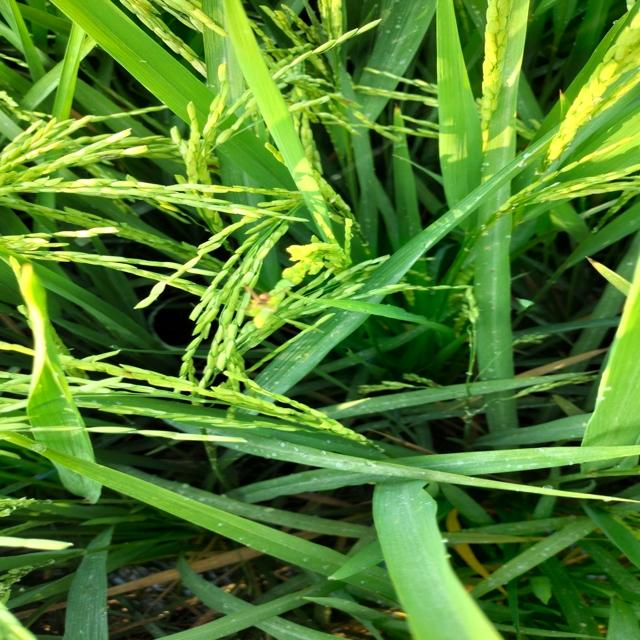Bacterial leaf blight: (586, 359, 618, 419)
healthy: (514, 346, 610, 376)
